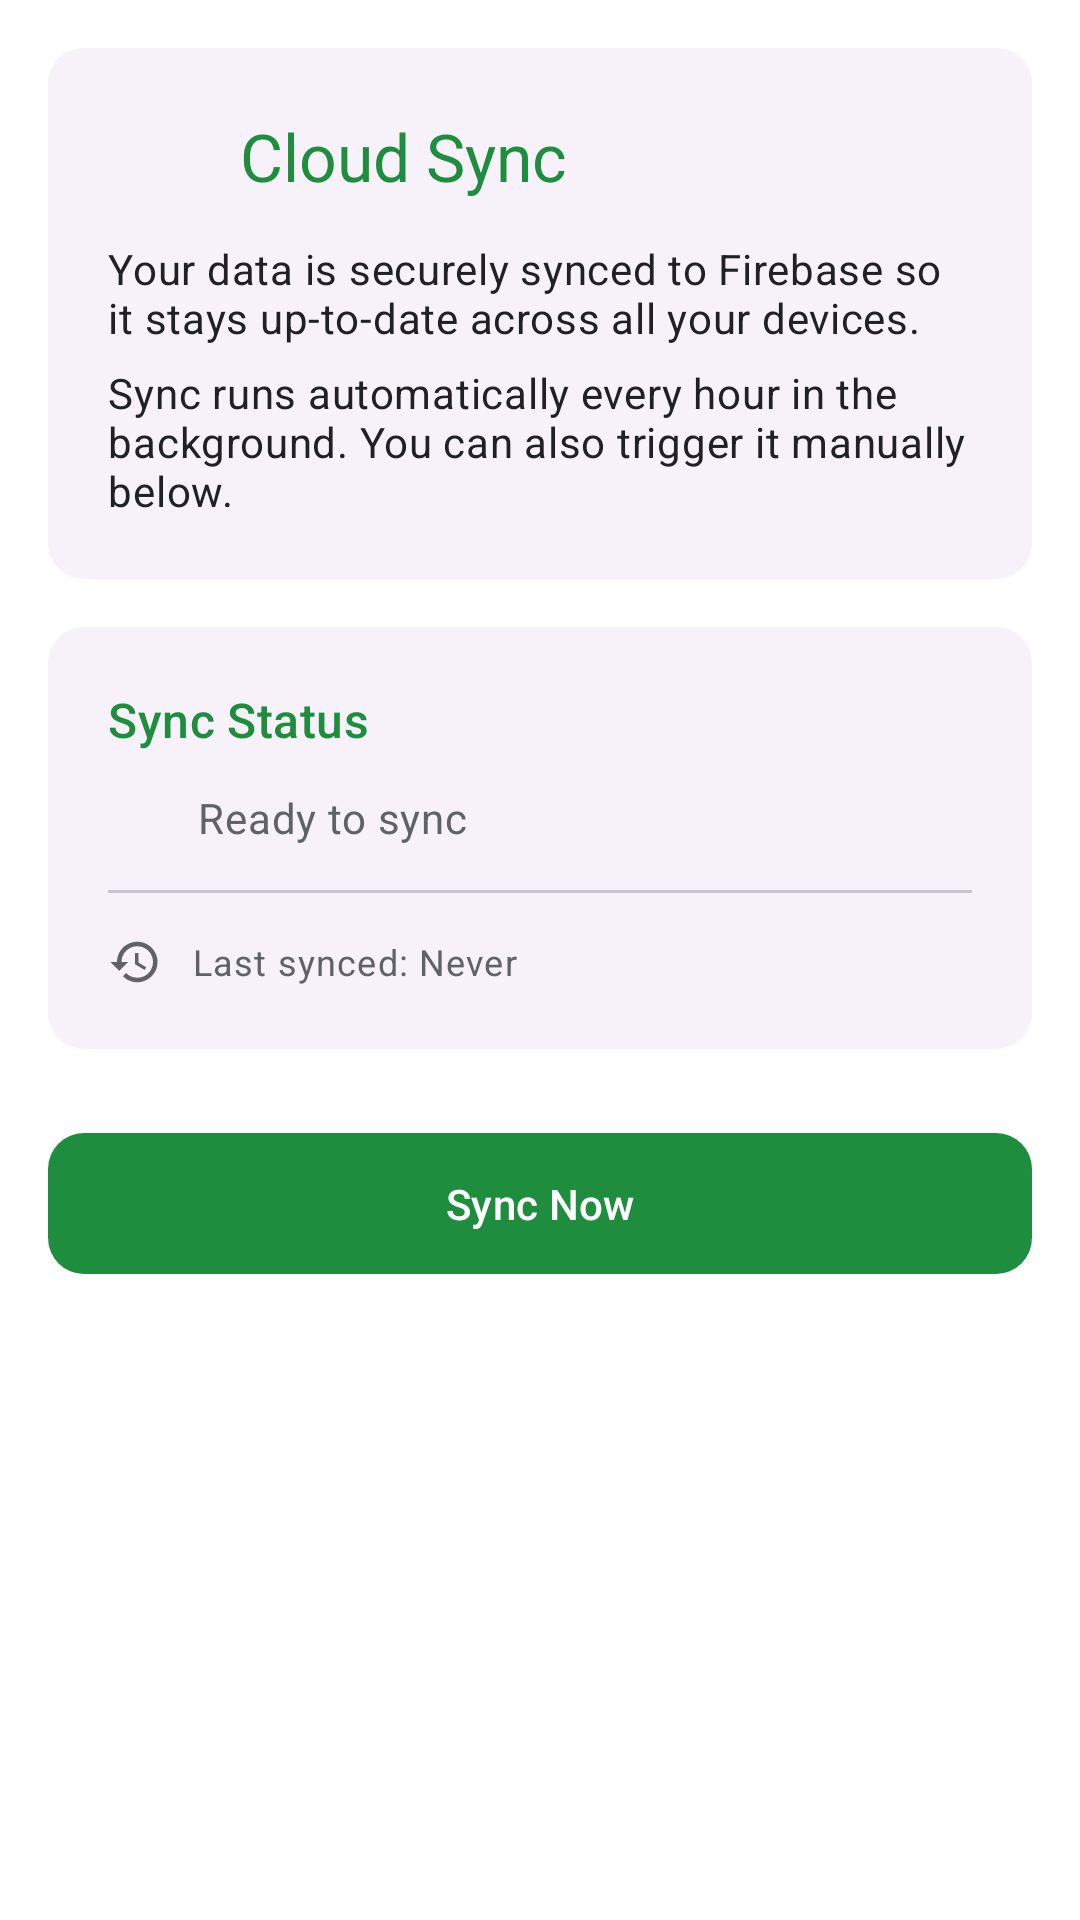

Point at icon controls on the screen. Image size 1080x1920, points as point (x, y).
Last sync icon: point (134, 962)
